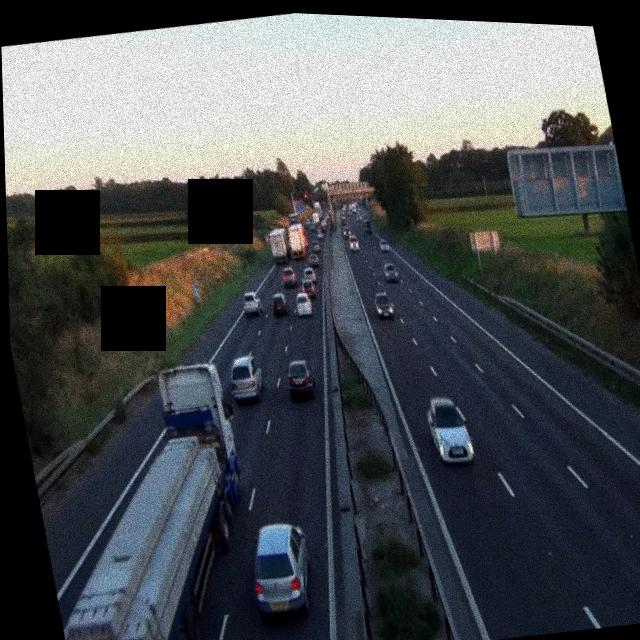car: (243, 519, 318, 620), (424, 392, 475, 466), (226, 352, 266, 403), (285, 358, 318, 402), (372, 291, 395, 321), (241, 290, 263, 317), (293, 292, 313, 318), (270, 292, 290, 316), (382, 259, 399, 284), (280, 265, 298, 288), (301, 277, 317, 300), (301, 266, 318, 287), (308, 251, 320, 268), (379, 237, 391, 253), (362, 217, 373, 233), (349, 236, 360, 251), (342, 227, 353, 240)
truck: (16, 352, 278, 640), (267, 224, 293, 264), (285, 220, 309, 256)
